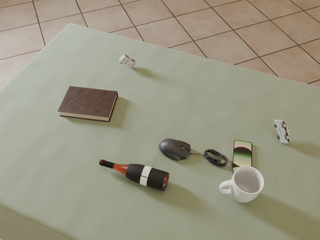book: (58, 86, 118, 122)
bottle: (99, 160, 169, 191)
cup: (219, 166, 264, 202)
mouse: (159, 139, 192, 160)
phone: (232, 140, 252, 174)
toy_car: (274, 120, 291, 143), (119, 54, 136, 68)
